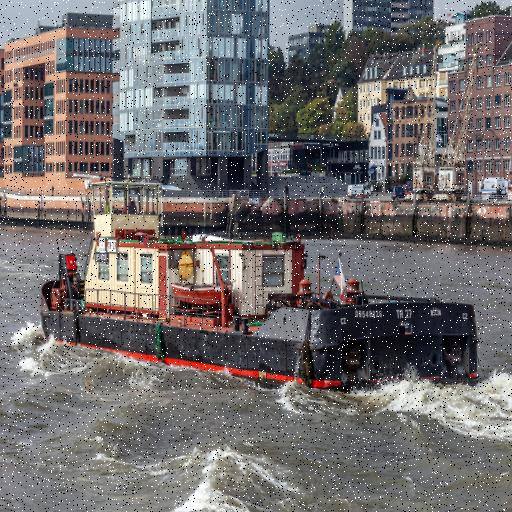tugboat: (38, 171, 484, 404)
